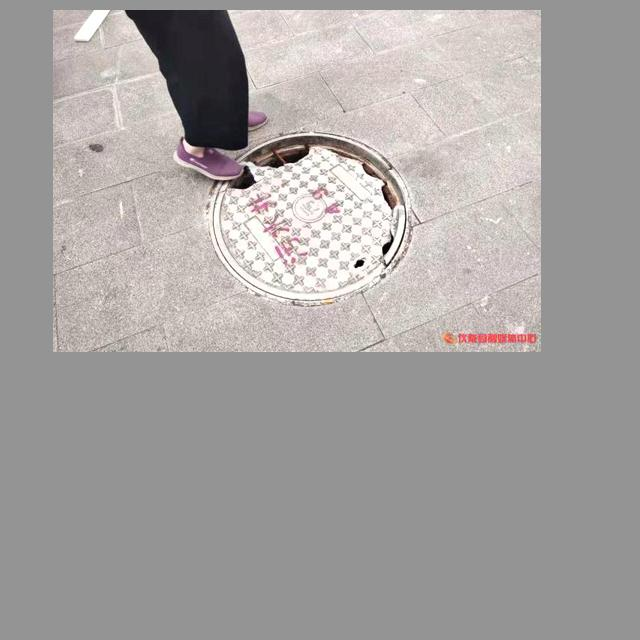broke: (200, 132, 423, 301)
